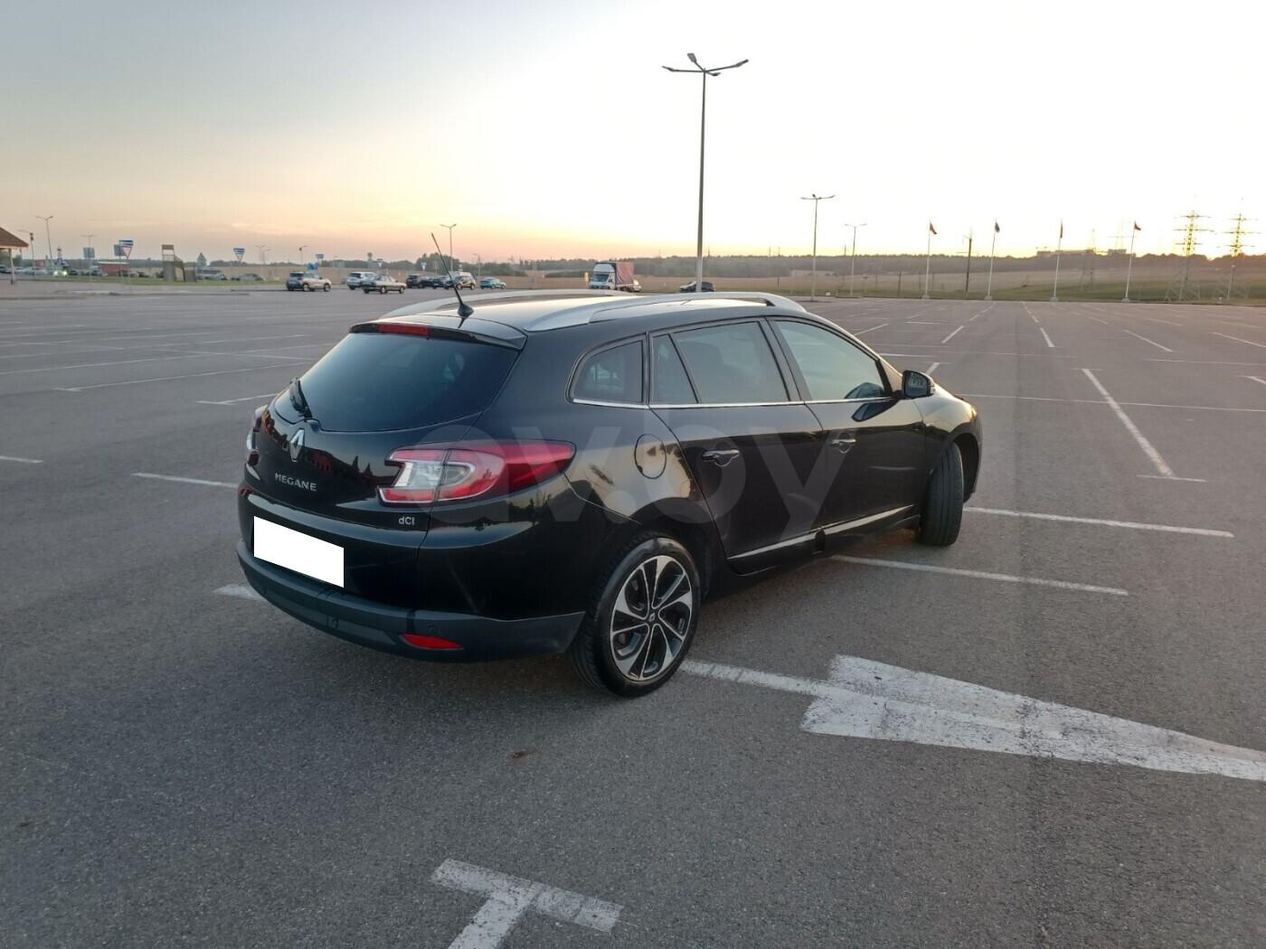Megane_2014-2016: (234, 285, 988, 688)
